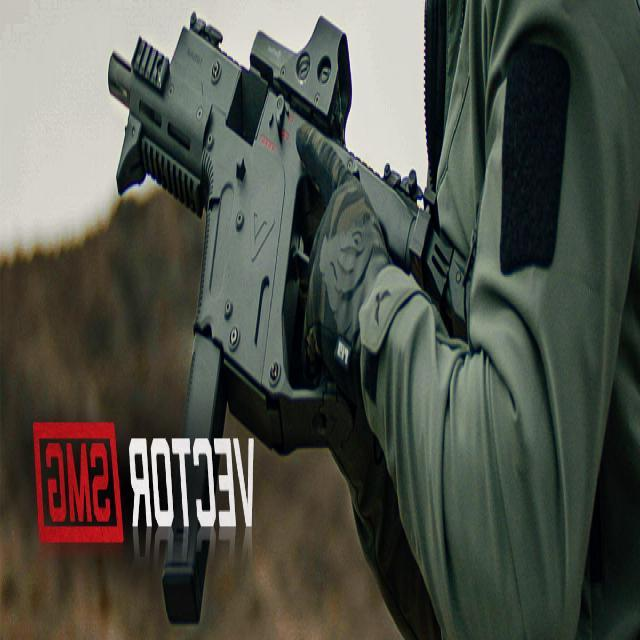smg: (92, 7, 440, 542)
